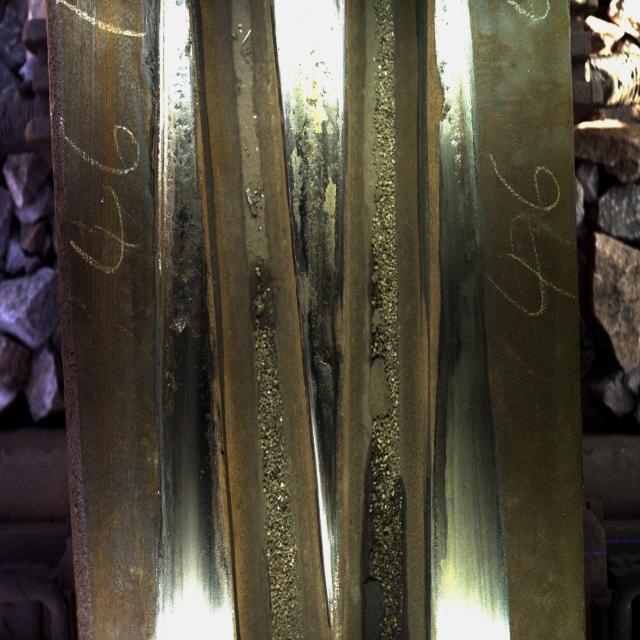crack: (429, 39, 486, 330)
scar: (278, 20, 352, 416), (149, 0, 210, 349)
